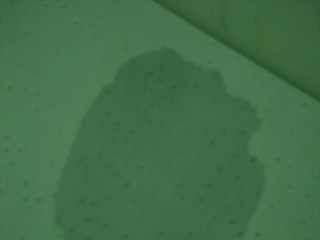Water_detected: (77, 71, 223, 240)
